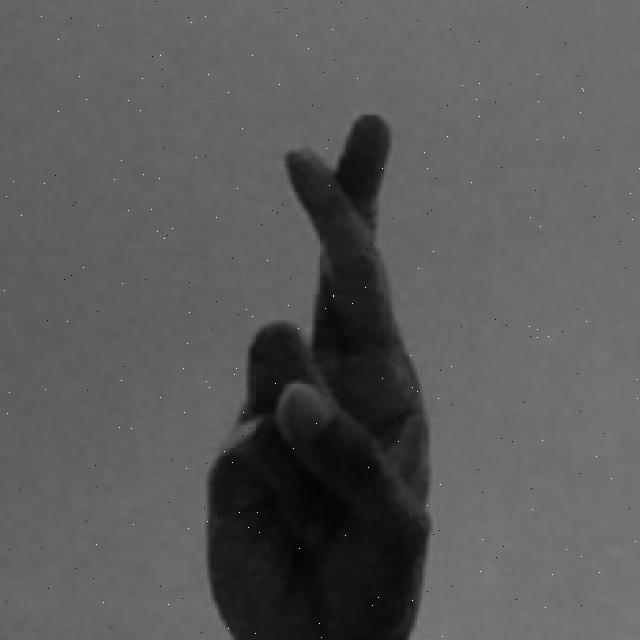R: (199, 109, 440, 640)
